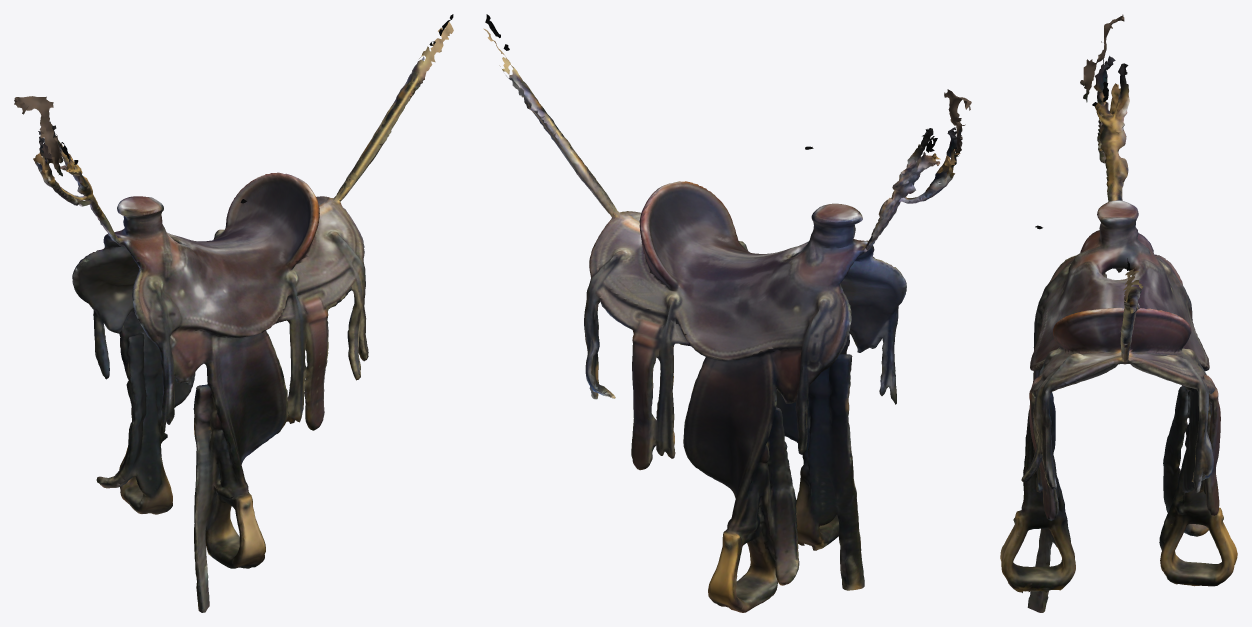
File: sedlo.glb
The picture shows the model from 3 angles, left to right: view 1: azimuth 30°, elevation 25°; view 2: azimuth 150°, elevation 25°; view 3: azimuth 270°, elevation 25°; orthographic projection. The views are drawn at different scales.
Parts seen in each view (by area): view 1: Object_2; view 2: Object_2; view 3: Object_2.
Boxes of the visible parts, x1=… form: Object_2: x1=14, y1=14, x2=453, y2=612; Object_2: x1=483, y1=14, x2=971, y2=612; Object_2: x1=1000, y1=14, x2=1237, y2=612.
Bounding box in the file's own units: 1.28 × 1.43 × 0.5888.
Materials: 1 (1 with a texture image).
